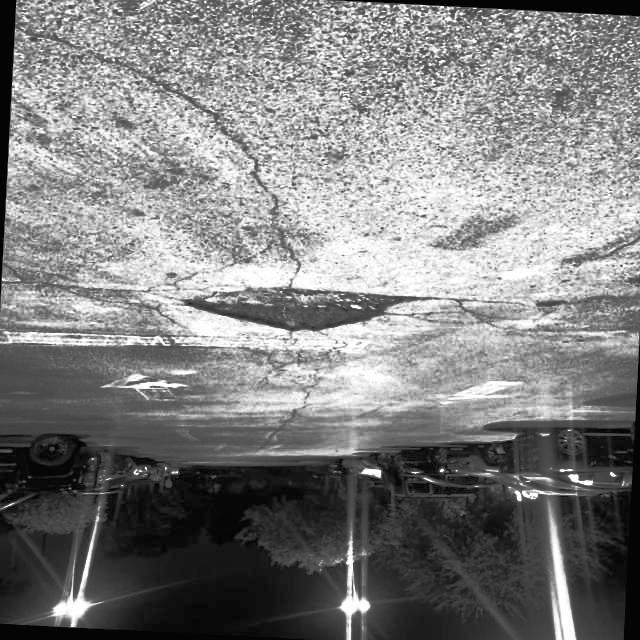Pothole: (187, 252, 403, 362)
